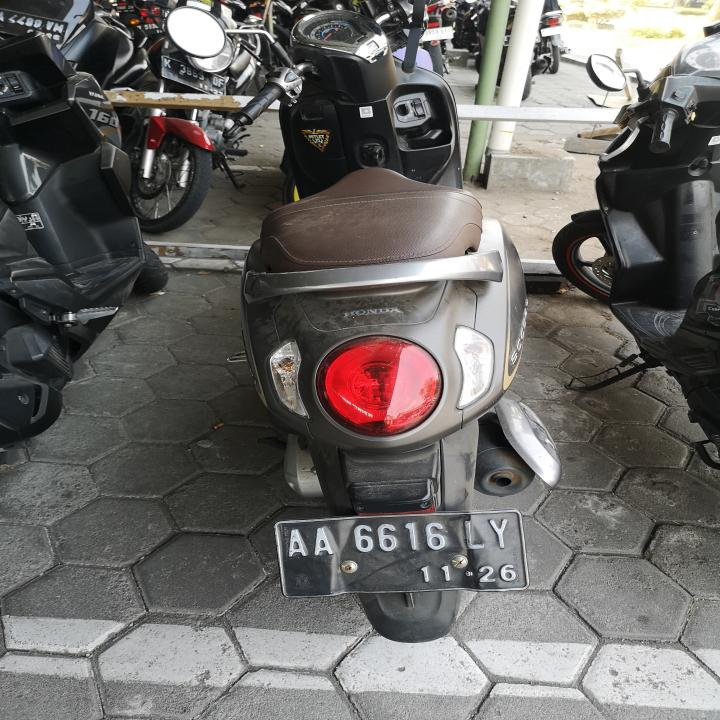plate: (270, 509, 537, 596), (160, 54, 227, 97), (0, 8, 68, 43)
